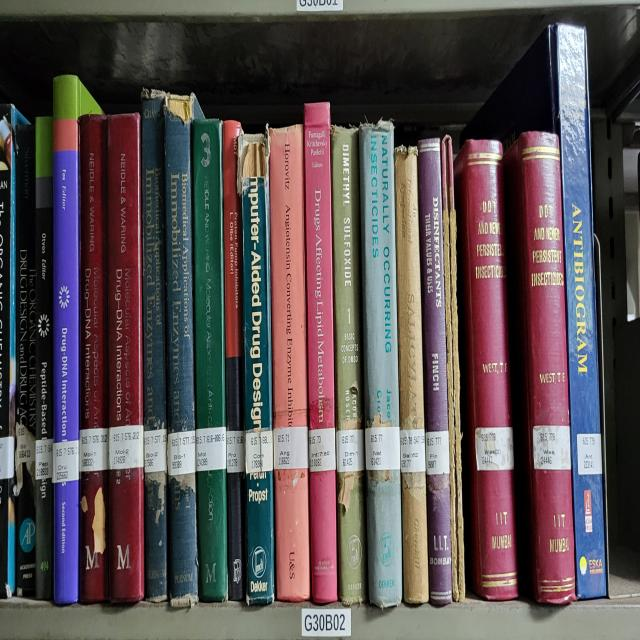Book: (504, 133, 575, 603), (554, 24, 608, 598), (454, 138, 519, 601), (52, 76, 101, 603), (360, 122, 402, 606), (269, 124, 310, 601), (165, 95, 202, 606), (330, 127, 368, 606), (108, 114, 145, 603), (192, 119, 228, 601), (238, 133, 274, 606), (304, 103, 338, 603), (418, 138, 452, 606), (395, 146, 429, 603), (79, 114, 109, 603), (141, 89, 168, 601), (0, 106, 26, 598), (222, 119, 246, 601), (14, 124, 36, 595), (35, 116, 54, 601)
Label: (532, 425, 571, 471), (475, 427, 514, 471), (365, 425, 400, 471), (109, 425, 144, 471), (274, 425, 309, 468), (196, 427, 226, 471), (79, 427, 109, 471), (336, 430, 365, 473), (245, 430, 274, 473), (168, 430, 195, 476), (400, 427, 426, 473), (309, 427, 336, 471), (52, 441, 79, 484), (425, 430, 450, 476), (144, 430, 168, 473), (578, 433, 602, 473), (16, 422, 35, 468), (226, 430, 245, 473), (35, 438, 54, 479), (0, 436, 14, 479)
